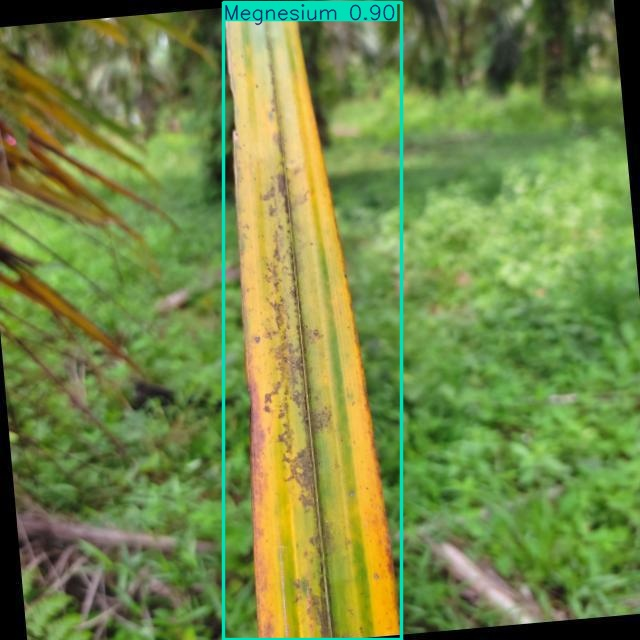Megnesium: (224, 2, 401, 640)
